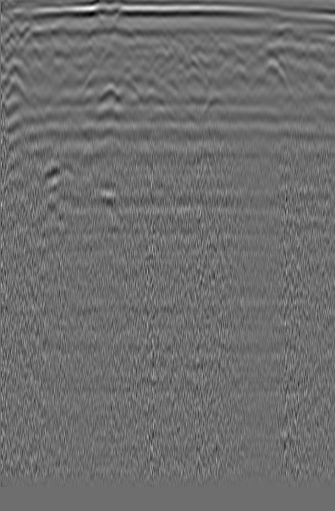가스: (86, 181, 115, 208)
상수: (14, 22, 56, 56)
오수: (294, 34, 332, 63)
우수: (151, 20, 189, 54)
